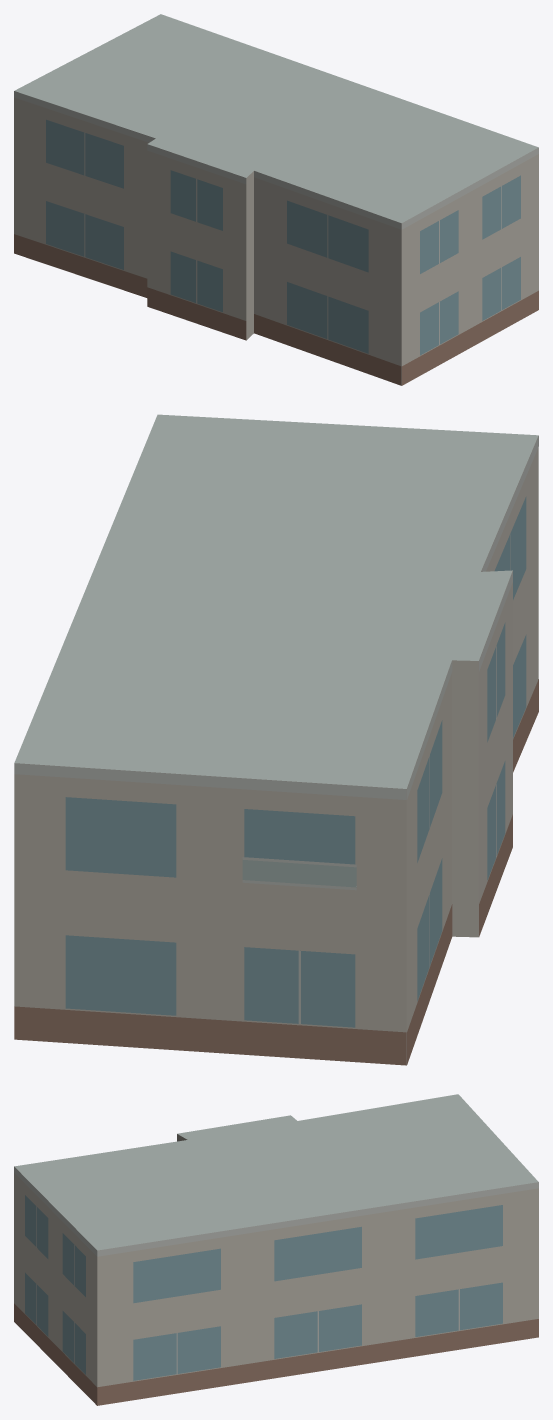
File: survey-upis-32901488.glb
3 views of the same model, one above another, from view 1: azimuth 30°, elevation 25°; view 2: azimuth 150°, elevation 25°; view 3: azimuth 270°, elevation 25° (orthographic). The views are drawn at different scales.
Visible parts, largest first — view 1: survey-upis-32901488.tmp; view 2: survey-upis-32901488.tmp; view 3: survey-upis-32901488.tmp.
Boxes of the visible parts, x1,y1,x2,y2 form: survey-upis-32901488.tmp: [14, 14, 538, 385]; survey-upis-32901488.tmp: [14, 414, 538, 1065]; survey-upis-32901488.tmp: [14, 1094, 538, 1405].
Bounding box in the file's own units: 13.19 × 6.1 × 18.7.
